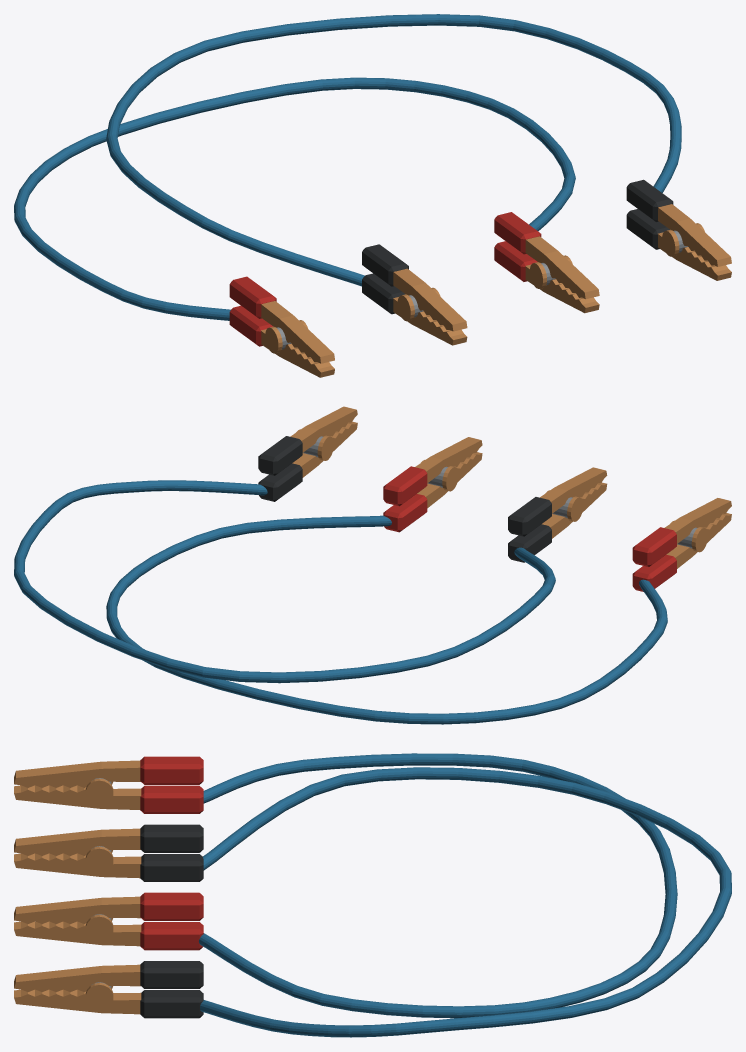
Rendered from full.glb.
3 renders of one model, top to bottom at view 1: azimuth 30°, elevation 25°; view 2: azimuth 150°, elevation 25°; view 3: azimuth 270°, elevation 25°, orthographic. The views are drawn at different scales.
Visible parts, largest first — view 1: Continuous insulated lead 1, Continuous insulated lead 0, Serrated clamp member 1 1, Serrated clamp member 2 1, Serrated clamp member 0 1, Serrated clamp member 3 1, Insulated handle sleeve 0 1, Insulated handle sleeve 2 1, Insulated handle sleeve 3 1, Insulated handle sleeve 1 1, Serrated clamp member 2 0, Insulated handle sleeve 0 0 (+6 smaller); view 2: Continuous insulated lead 1, Continuous insulated lead 0, Serrated clamp member 3 1, Serrated clamp member 1 1, Serrated clamp member 2 1, Serrated clamp member 0 1, Insulated handle sleeve 2 1, Insulated handle sleeve 0 1, Insulated handle sleeve 3 1, Insulated handle sleeve 1 1, Insulated handle sleeve 2 0, Insulated handle sleeve 3 0 (+6 smaller); view 3: Continuous insulated lead 1, Continuous insulated lead 0, Serrated clamp member 3 1, Serrated clamp member 0 1, Serrated clamp member 2 1, Serrated clamp member 1 1, Serrated clamp member 0 0, Serrated clamp member 1 0, Serrated clamp member 2 0, Serrated clamp member 3 0, Insulated handle sleeve 2 1, Insulated handle sleeve 1 1 (+10 smaller).
Boxes of the visible parts, x1,y1,x2,y2 form: Continuous insulated lead 1: (106, 14, 681, 286); Continuous insulated lead 0: (14, 77, 575, 320); Serrated clamp member 1 1: (393, 268, 467, 331); Serrated clamp member 2 1: (525, 236, 599, 299); Serrated clamp member 0 1: (261, 301, 334, 363); Serrated clamp member 3 1: (658, 204, 731, 266); Insulated handle sleeve 0 1: (229, 276, 276, 318); Insulated handle sleeve 2 1: (494, 212, 541, 254); Insulated handle sleeve 3 1: (626, 179, 673, 221); Insulated handle sleeve 1 1: (362, 244, 408, 286); Serrated clamp member 2 0: (525, 264, 599, 313); Insulated handle sleeve 0 0: (229, 305, 272, 346); Continuous insulated lead 1: (14, 480, 555, 683); Continuous insulated lead 0: (106, 515, 667, 724); Serrated clamp member 3 1: (290, 406, 357, 452); Serrated clamp member 1 1: (540, 467, 607, 513); Serrated clamp member 2 1: (415, 437, 482, 482); Serrated clamp member 0 1: (664, 498, 731, 543); Insulated handle sleeve 2 1: (383, 466, 427, 506); Insulated handle sleeve 0 1: (632, 527, 676, 566); Insulated handle sleeve 3 1: (258, 436, 302, 475); Insulated handle sleeve 1 1: (508, 497, 551, 536); Insulated handle sleeve 2 0: (383, 494, 427, 532); Insulated handle sleeve 3 0: (258, 463, 302, 501); Continuous insulated lead 1: (200, 767, 731, 1037); Continuous insulated lead 0: (199, 753, 677, 1018); Serrated clamp member 3 1: (14, 964, 140, 992); Serrated clamp member 0 1: (14, 760, 140, 787); Serrated clamp member 2 1: (14, 896, 140, 923); Serrated clamp member 1 1: (14, 828, 140, 855); Serrated clamp member 0 0: (14, 785, 141, 809); Serrated clamp member 1 0: (14, 853, 141, 878); Serrated clamp member 2 0: (14, 921, 141, 946); Serrated clamp member 3 0: (14, 989, 141, 1014); Insulated handle sleeve 2 1: (140, 892, 203, 920); Insulated handle sleeve 1 1: (140, 824, 203, 852).
Bounding box in the file's own units: 0.728 × 0.0605 × 0.7133.
